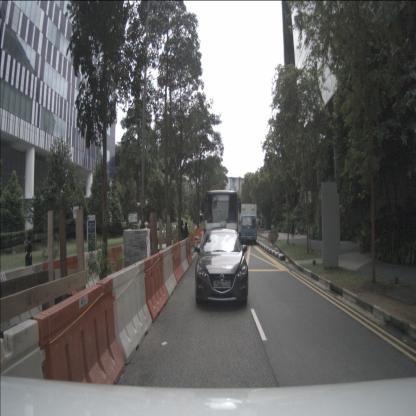barrier: (34, 276, 125, 416), (107, 259, 153, 366), (0, 318, 47, 416), (0, 263, 44, 312), (43, 254, 84, 305), (144, 254, 170, 324), (77, 248, 104, 286), (162, 246, 178, 298), (100, 244, 124, 274), (172, 242, 186, 284), (180, 240, 190, 274), (186, 239, 193, 266)
